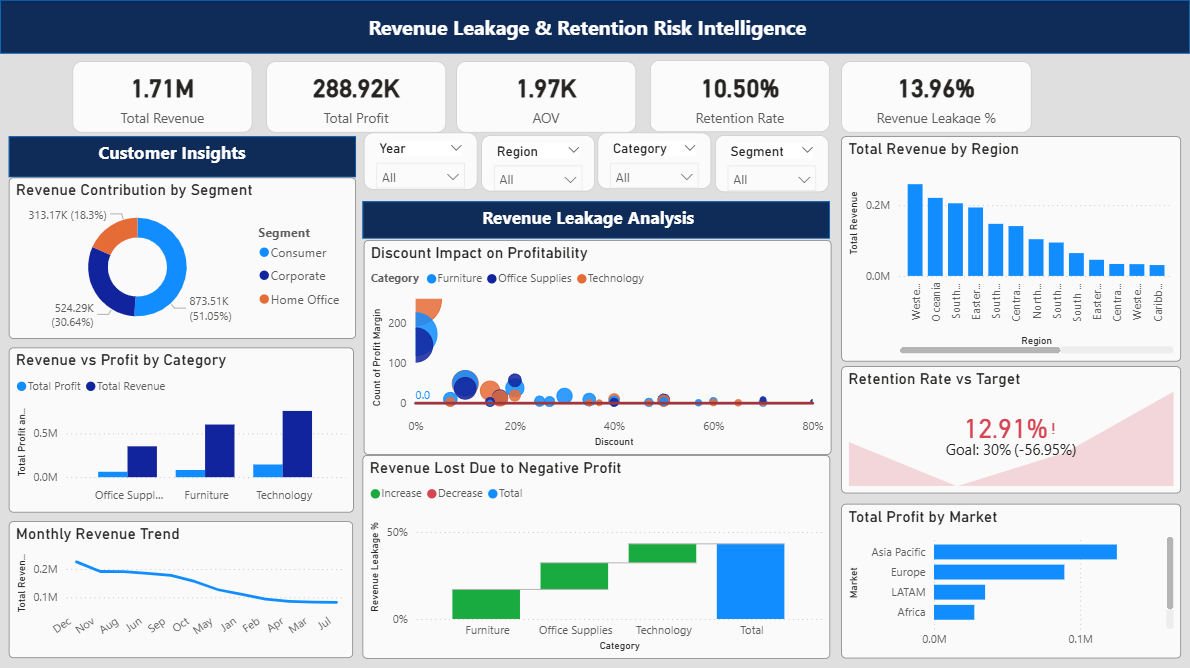

This screenshot's page, from the dashboard's own definition file:
{"tool":"powerbi","page":{"name":"Page 1","canvas":[1280,720],"ordinal":0},"visuals":[{"type":"card","fields":{"Values":["Sales_Data.Total Revenue"]},"box":[78,65.9,193.7,76.7],"z":0},{"type":"card","fields":{"Values":["Sales_Data.Total Profit"]},"box":[286.4,65.9,193.7,76.7],"z":1000},{"type":"card","fields":{"Values":["Sales_Data.AOV"]},"box":[490.9,65.9,193.7,76.7],"z":2000},{"type":"card","fields":{"Values":["Sales_Data.Retention Rate"]},"box":[699.3,64.6,193.7,78],"z":3000},{"type":"card","fields":{"Values":["Sales_Data.Revenue Leakage %"]},"box":[905.1,65.9,204.4,76.7],"z":4000},{"type":"donutChart","title":"Revenue Contribution by Segment","fields":{"Category":["Sales_Data.Segment"],"Y":["Sales_Data.Total Revenue"]},"box":[9.4,191,373.9,173.5],"z":5000},{"type":"clusteredColumnChart","title":"Revenue vs Profit by Category","fields":{"Category":["Sales_Data.Category"],"Y":["Sales_Data.Total Profit","Sales_Data.Total Revenue"]},"box":[9.4,373.9,371.2,177.5],"z":6000},{"type":"lineChart","title":"Monthly Revenue Trend","fields":{"Category":["Date_Table.Month"],"Y":["Sales_Data.Total Revenue"]},"box":[9.7,561,370.8,147.2],"z":7000},{"type":"shape","box":[0,0,1280.3,57.8],"z":8000},{"type":"textbox","box":[391.3,9.4,626.7,59.2],"z":9000},{"type":"shape","box":[9.4,146.6,373.9,44.4],"z":10000},{"type":"textbox","box":[100.9,146.6,185.6,69.9],"z":11000},{"type":"scatterChart","title":"Discount Impact on Profitability","fields":{"X":["Sales_Data.Discount"],"Size":["Sum(Sales_Data.Sales)"],"Series":["Sales_Data.Category"],"Y":["CountNonNull(Sales_Data.Profit Margin)"]},"box":[391.3,258.2,503,231.3],"z":12000},{"type":"waterfallChart","title":"Revenue Lost Due to Negative Profit","fields":{"Category":["Sales_Data.Category"],"Y":["Sales_Data.Revenue Leakage %"]},"box":[390,489.5,503,219.2],"z":13000},{"type":"shape","box":[390,216.5,503,40.3],"z":14000},{"type":"textbox","box":[513.7,216.5,255.5,41.7],"z":15000},{"type":"clusteredBarChart","fields":{"Category":["Sales_Data.Market"],"Y":["Sales_Data.Total Profit"]},"box":[905.1,542,365.8,166.8],"z":16000},{"type":"clusteredColumnChart","fields":{"Category":["Sales_Data.Region"],"Y":["Sales_Data.Total Revenue"]},"box":[905.1,146.6,365.8,242.1],"z":17000},{"type":"slicer","fields":{"Values":["Date_Table.Year"]},"box":[391.3,142.6,122.4,61.9],"z":19000},{"type":"slicer","fields":{"Values":["Sales_Data.Region"]},"box":[517.8,145.2,122.4,60.5],"z":20000},{"type":"slicer","fields":{"Values":["Sales_Data.Category"]},"box":[642.8,142.6,122.4,60.5],"z":21000},{"type":"slicer","fields":{"Values":["Sales_Data.Segment"]},"box":[769.2,145.2,122.4,61.9],"z":22000},{"type":"kpi","title":"Retention Rate vs Target","fields":{"TrendLine":["Date_Table.Year"],"Indicator":["Sales_Data.Retention Rate"],"Goal":["Sales_Data.Retention Target"]},"box":[905.1,394,365.8,137.2],"z":22002}]}

Visuals, with their boxes in screenshot pixels (x1, y1, x2, y2), scaled from the page's 1280x720 canvas onto the 1190x668 screenshot:
card - Sales_Data.Total Revenue: [left=73, top=61, right=253, bottom=132]
card - Sales_Data.Total Profit: [left=266, top=61, right=446, bottom=132]
card - Sales_Data.AOV: [left=456, top=61, right=636, bottom=132]
card - Sales_Data.Retention Rate: [left=650, top=60, right=830, bottom=132]
card - Sales_Data.Revenue Leakage %: [left=841, top=61, right=1031, bottom=132]
"Revenue Contribution by Segment" donutChart: [left=9, top=177, right=356, bottom=338]
"Revenue vs Profit by Category" clusteredColumnChart: [left=9, top=347, right=354, bottom=512]
"Monthly Revenue Trend" lineChart: [left=9, top=520, right=354, bottom=657]
shape: [left=0, top=0, right=1189, bottom=54]
textbox: [left=364, top=9, right=946, bottom=64]
shape: [left=9, top=136, right=356, bottom=177]
textbox: [left=94, top=136, right=266, bottom=201]
"Discount Impact on Profitability" scatterChart: [left=364, top=240, right=831, bottom=454]
"Revenue Lost Due to Negative Profit" waterfallChart: [left=363, top=454, right=830, bottom=658]
shape: [left=363, top=201, right=830, bottom=238]
textbox: [left=478, top=201, right=715, bottom=240]
clusteredBarChart - Sales_Data.Market x Sales_Data.Total Profit: [left=841, top=503, right=1182, bottom=658]
clusteredColumnChart - Sales_Data.Region x Sales_Data.Total Revenue: [left=841, top=136, right=1182, bottom=361]
slicer - Date_Table.Year: [left=364, top=132, right=478, bottom=190]
slicer - Sales_Data.Region: [left=481, top=135, right=595, bottom=191]
slicer - Sales_Data.Category: [left=598, top=132, right=711, bottom=188]
slicer - Sales_Data.Segment: [left=715, top=135, right=829, bottom=192]
"Retention Rate vs Target" kpi: [left=841, top=366, right=1182, bottom=493]
